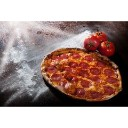pepperonipizza: (40, 47, 121, 100)
